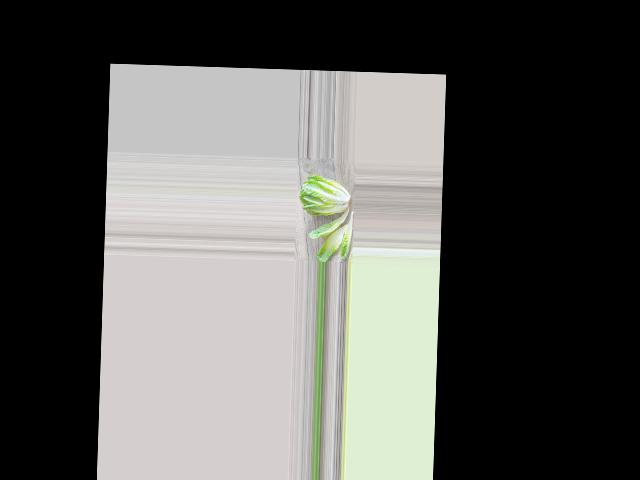lettuce: (299, 172, 350, 218)
